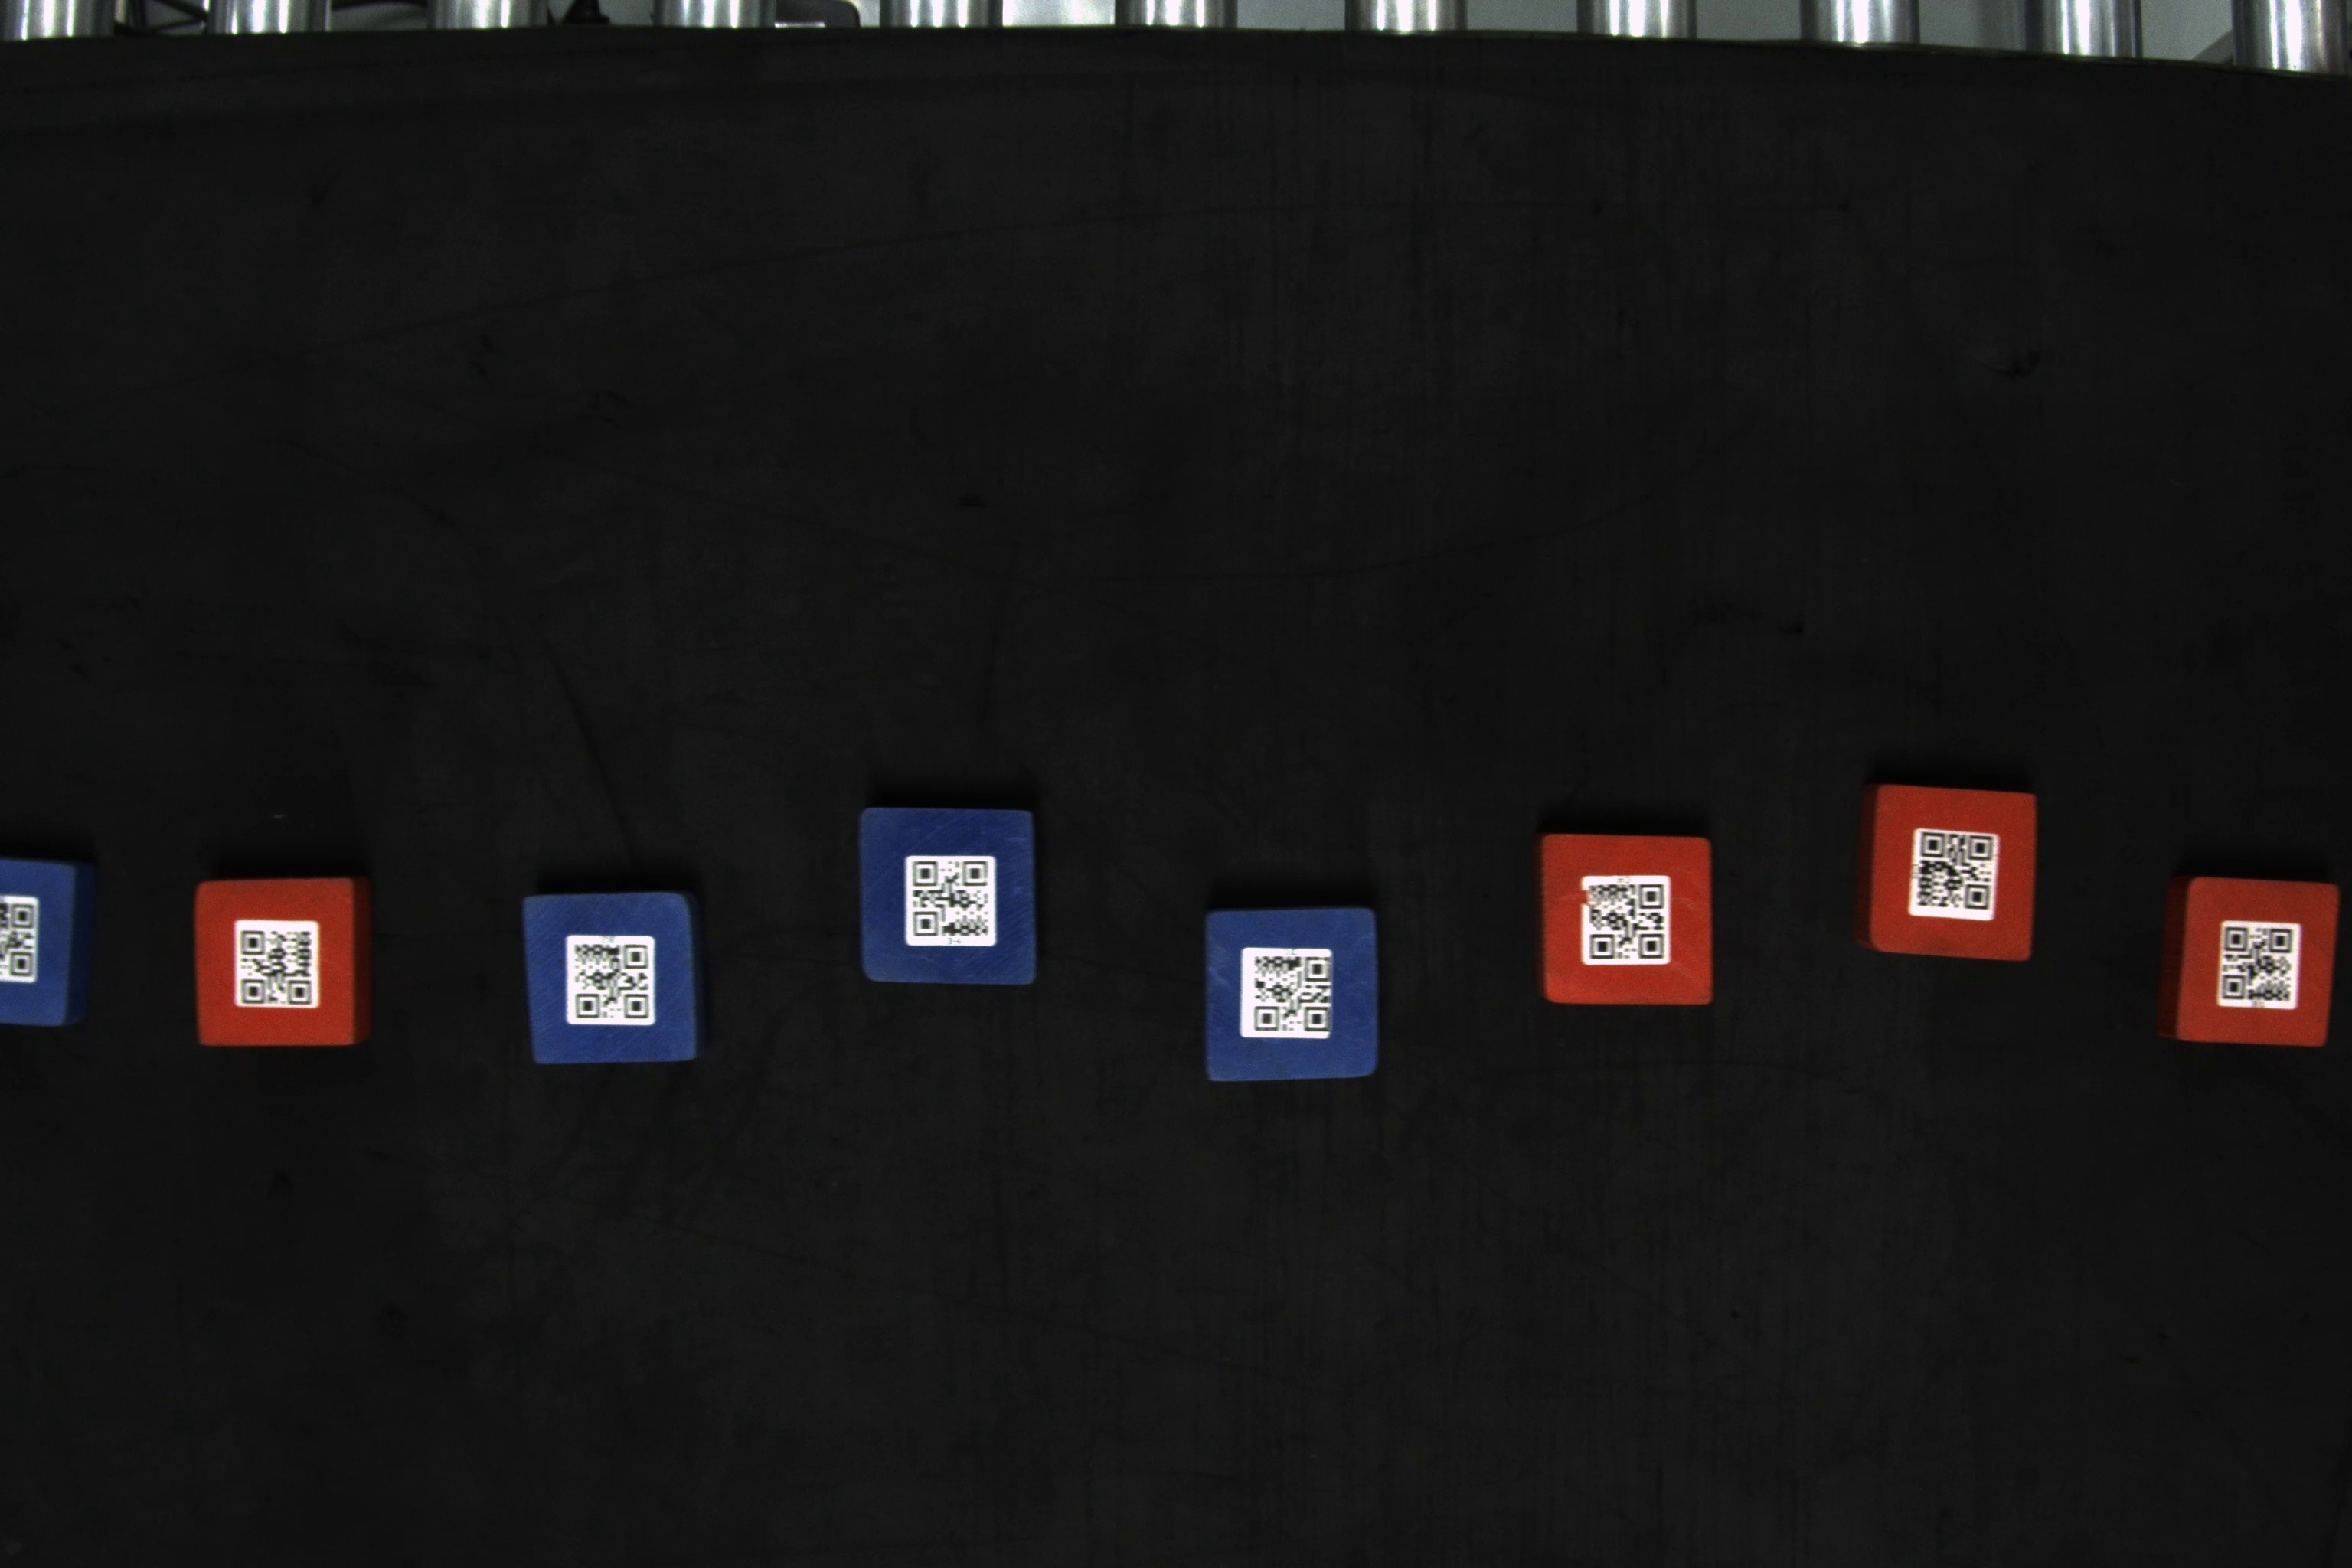wood: (852, 796, 1043, 996), (523, 884, 716, 1074), (1533, 829, 1722, 1017), (2156, 870, 2347, 1053), (1200, 906, 1391, 1087), (1858, 780, 2040, 968), (192, 880, 374, 1050), (3, 852, 93, 1034)
